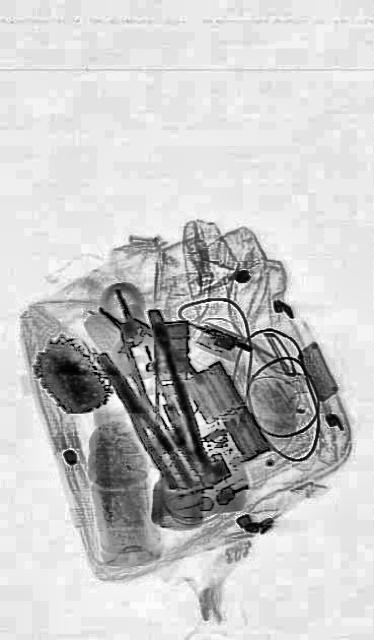Pliers: (88, 262, 204, 438)
